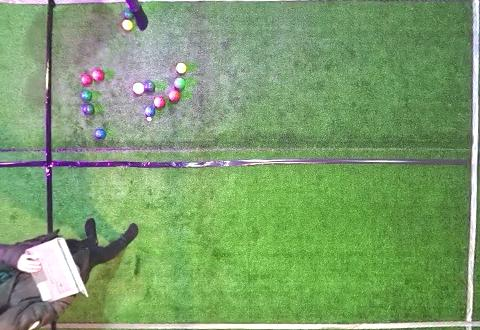blue: (144, 106, 155, 116), (95, 129, 106, 139)
green: (82, 103, 94, 115), (81, 90, 92, 101), (174, 78, 185, 88), (145, 81, 155, 92), (123, 9, 134, 19)
red: (92, 68, 105, 82), (80, 73, 92, 86), (154, 96, 166, 108), (133, 82, 144, 94), (169, 90, 180, 101)
vline: (1, 1, 55, 231), (464, 1, 479, 329)
white: (147, 117, 152, 121)
yellow: (176, 63, 186, 74), (122, 20, 133, 30)
